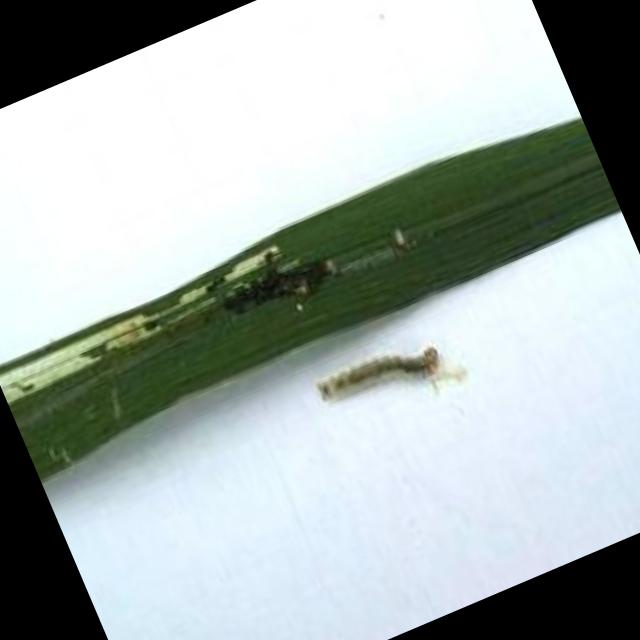leaf-folder: (303, 312, 474, 453)
